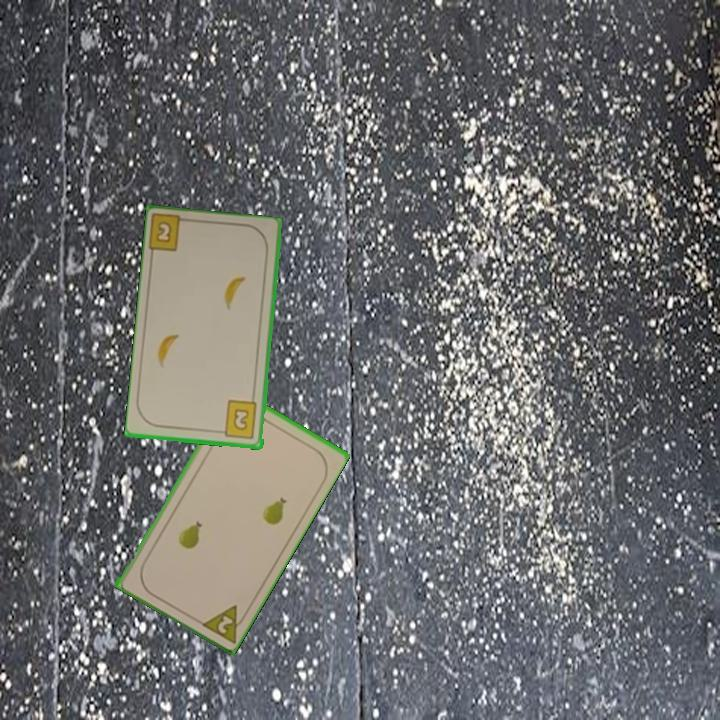2b: (215, 397, 260, 442), (147, 213, 194, 255)
2p: (196, 601, 251, 645)
